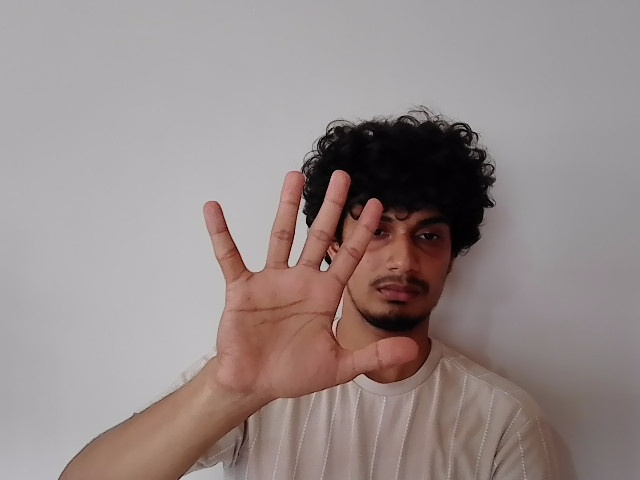goodbye: (197, 170, 419, 399)
